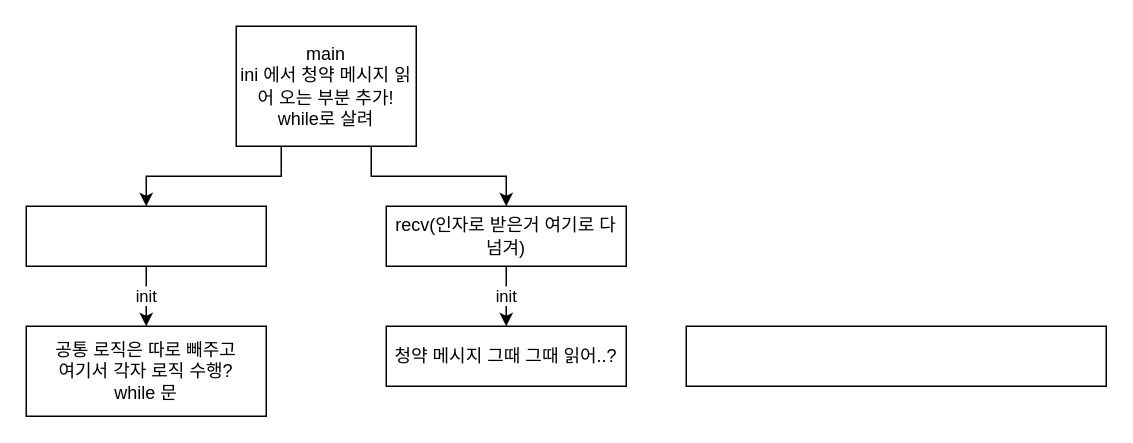
The diagram is 1133 pixels wide and 443 high, and some of its shapes have lost their labels. Here are the shapes that lost their labels. From the top down, the box of each, then its label:
(25, 205, 266, 266): send(인자로 받은거 여기로 넘겨)
(685, 325, 1106, 386): 1. 청약 메시지를 어떤식으로 받아 올 것인가? 2. 어떤식으로 고를것인가..?
